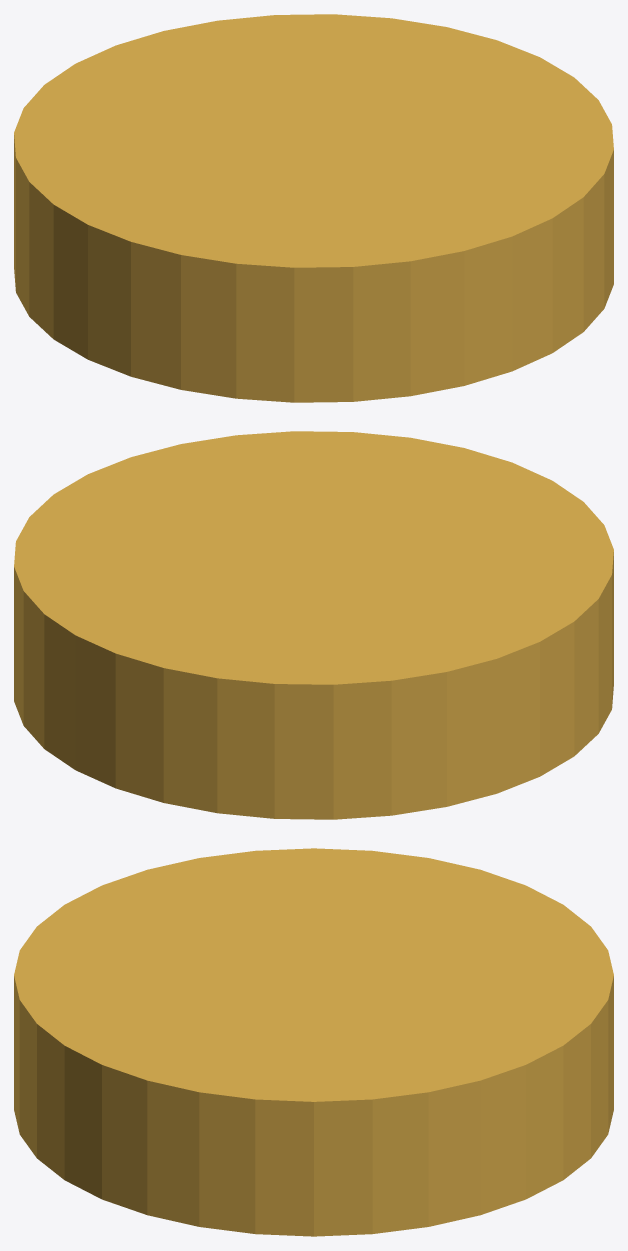
Rendered from orangePlayer.gltf.
3 views of the same model, one above another, from view 1: azimuth 30°, elevation 25°; view 2: azimuth 150°, elevation 25°; view 3: azimuth 270°, elevation 25° (orthographic).
Visible parts, largest first — view 1: Orange2; view 2: Orange2; view 3: Orange2.
Part boxes in pixels (x1=…): Orange2: x1=14, y1=14, x2=613, y2=402; Orange2: x1=14, y1=431, x2=613, y2=819; Orange2: x1=14, y1=848, x2=613, y2=1236.
Bounding box in the file's own units: 4 × 0.9907 × 4.
